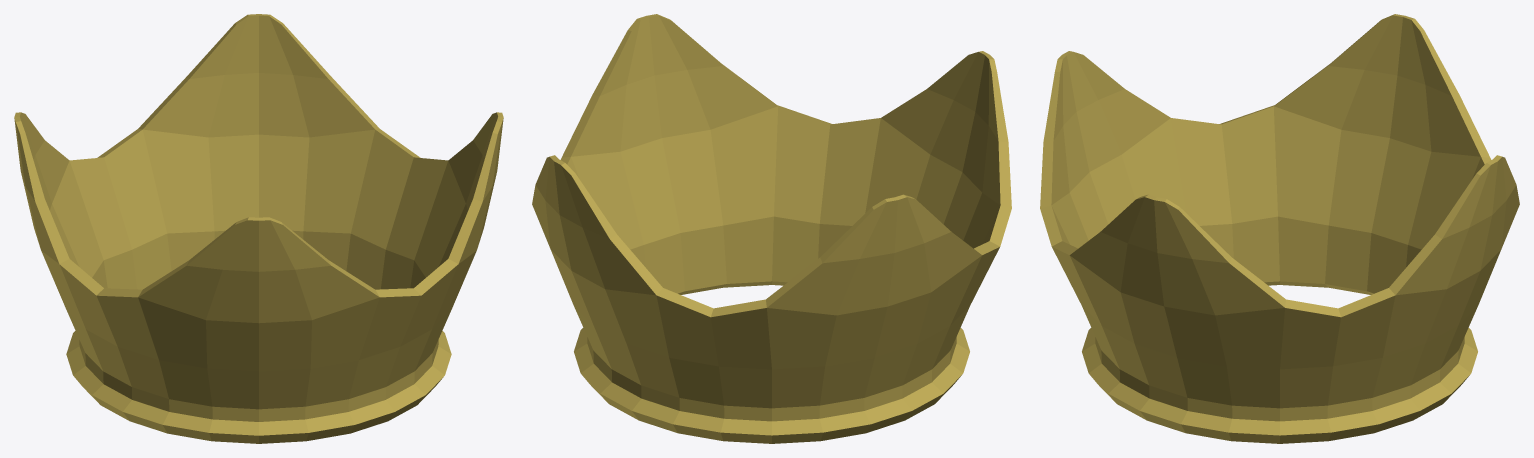
3 renders of one model, left to right at view 1: azimuth 30°, elevation 25°; view 2: azimuth 150°, elevation 25°; view 3: azimuth 270°, elevation 25°, orthographic. The views are drawn at different scales.
Visible parts, largest first — view 1: Crown_Cylinder.011; view 2: Crown_Cylinder.011; view 3: Crown_Cylinder.011.
Boxes of the visible parts, x1,y1,x2,y2 form: Crown_Cylinder.011: (14,14,503,443); Crown_Cylinder.011: (532,14,1011,443); Crown_Cylinder.011: (1040,14,1519,443).
Size of the model in its own units: 0.8315 by 0.492 by 0.8315.
